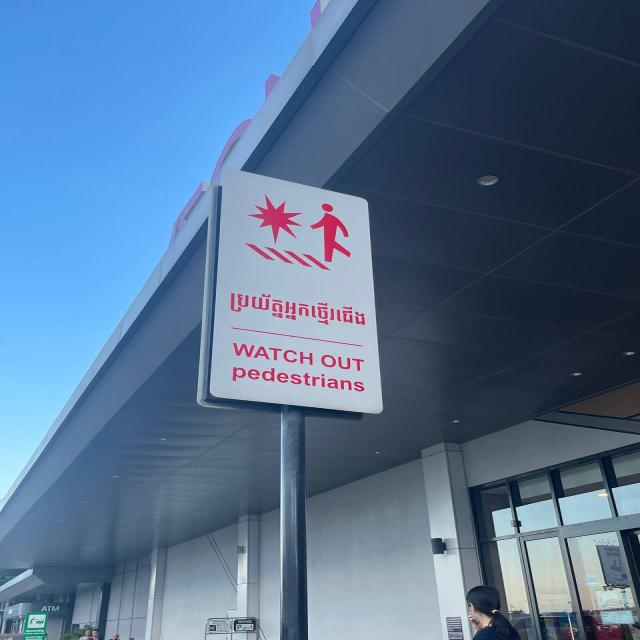Yolov11kh: (229, 284, 369, 332)
